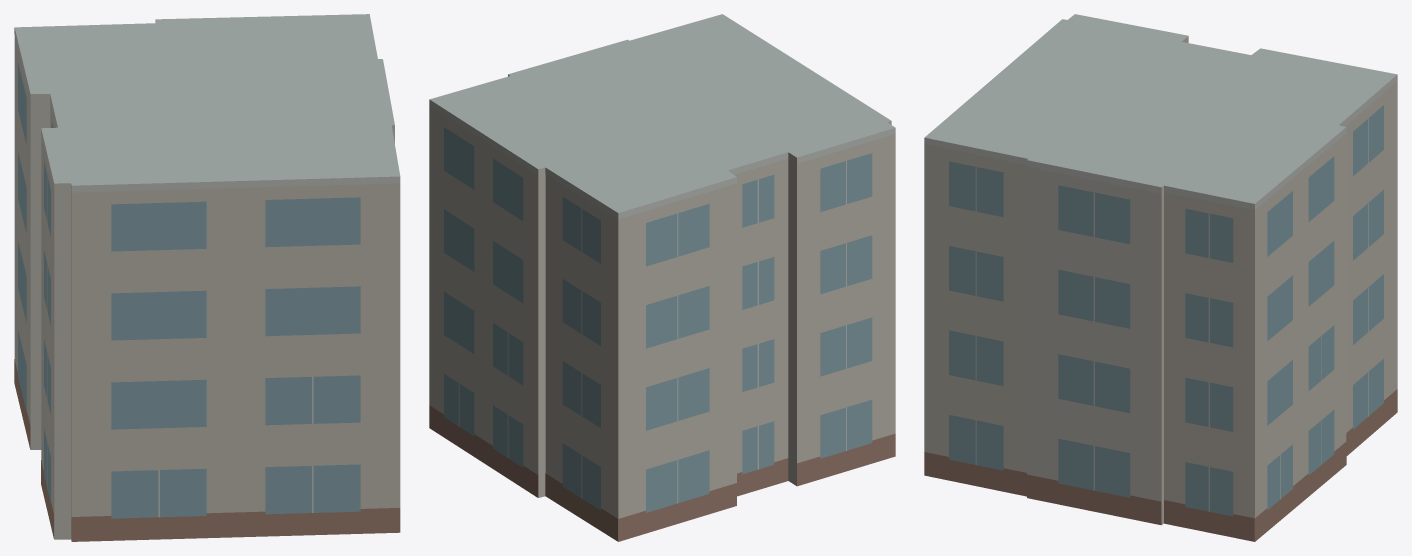
The model's file is survey-upis-32666452.glb.
3 views of the same model, side by side, from view 1: azimuth 30°, elevation 25°; view 2: azimuth 150°, elevation 25°; view 3: azimuth 270°, elevation 25° (orthographic). The views are drawn at different scales.
Visible parts, largest first — view 1: survey-upis-32666452.tmp; view 2: survey-upis-32666452.tmp; view 3: survey-upis-32666452.tmp.
Part boxes in pixels (x1,y1,x2,y2): survey-upis-32666452.tmp: [14, 14, 400, 541]; survey-upis-32666452.tmp: [429, 14, 895, 541]; survey-upis-32666452.tmp: [924, 14, 1397, 541].
Bounding box in the file's own units: 15.56 × 12.9 × 16.38.
